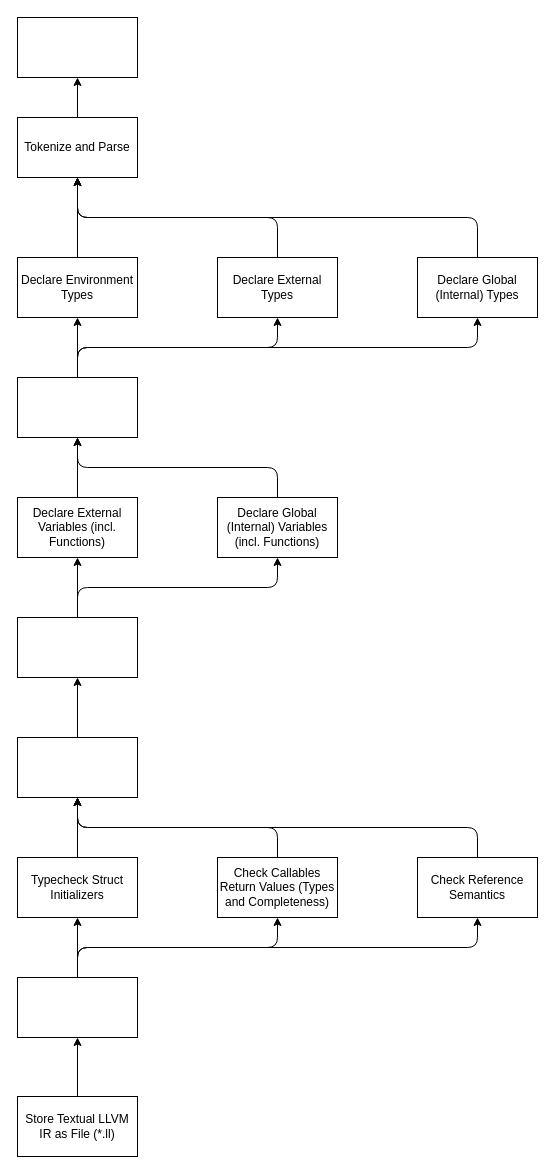
Some shapes in this 555 by 1174 pixel diagram are drawn without their labels. The box of each missing label's shape, as (x1, y1, x2, y2) in pixels:
Fill Types: (16, 376, 138, 438)
Generate IR: (16, 976, 138, 1038)
Load L0 File (*.l0): (16, 16, 138, 78)
Resolve Variables: (16, 616, 138, 678)
Typecheck Callables Intrinsically (excl. return values): (16, 736, 138, 798)
